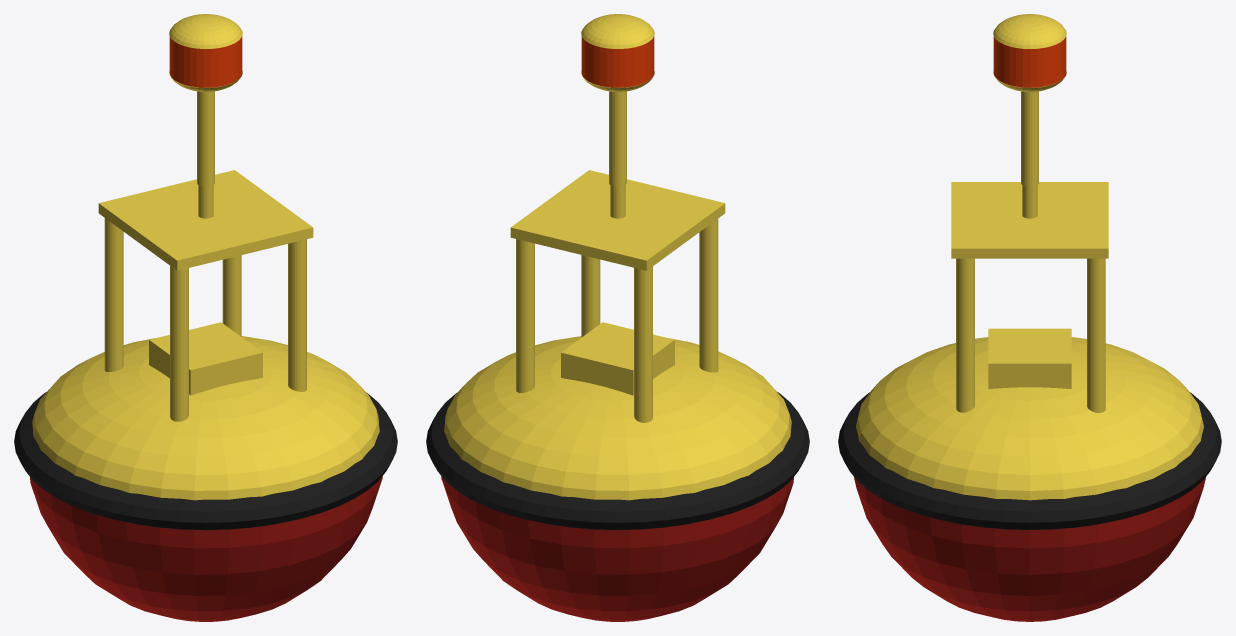
The model's file is Boei.fbx.
3 views of the same model, side by side, from view 1: azimuth 30°, elevation 25°; view 2: azimuth 150°, elevation 25°; view 3: azimuth 270°, elevation 25° (orthographic).
Parts seen in each view (by area): view 1: Sphere.001, Sphere, Torus, Cube, Cube.001, Cylinder.003, Cylinder.006, Cylinder, Cylinder.001, Sphere.003, Cylinder.005, Cylinder.002; view 2: Sphere.001, Sphere, Torus, Cube, Cube.001, Cylinder, Cylinder.003, Cylinder.006, Cylinder.002, Sphere.003, Cylinder.005, Cylinder.001; view 3: Sphere.001, Sphere, Torus, Cube, Cube.001, Cylinder.002, Cylinder.001, Cylinder.006, Sphere.003, Cylinder.005.
Boxes of the visible parts, x1,y1,x2,y2 form: Sphere.001: (32, 336, 379, 500); Sphere: (30, 476, 382, 621); Torus: (14, 392, 397, 530); Cube: (98, 170, 313, 270); Cube.001: (149, 322, 262, 395); Cylinder.003: (104, 218, 123, 371); Cylinder.006: (169, 36, 242, 87); Cylinder: (170, 266, 188, 421); Cylinder.001: (288, 239, 306, 391); Sphere.003: (169, 14, 242, 48); Cylinder.005: (197, 87, 214, 186); Cylinder.002: (222, 255, 241, 336); Sphere.001: (444, 336, 791, 500); Sphere: (441, 476, 793, 621); Torus: (426, 392, 809, 530); Cube: (510, 170, 725, 270); Cube.001: (561, 322, 674, 395); Cylinder: (699, 219, 718, 372); Cylinder.003: (634, 266, 652, 422); Cylinder.006: (581, 36, 654, 87); Cylinder.002: (516, 239, 534, 392); Sphere.003: (581, 14, 654, 48); Cylinder.005: (609, 87, 626, 186); Cylinder.001: (581, 255, 600, 337); Sphere.001: (856, 337, 1203, 500); Sphere: (853, 476, 1206, 621); Torus: (838, 392, 1221, 529); Cube: (951, 182, 1108, 258); Cube.001: (988, 328, 1071, 388); Cylinder.002: (1087, 258, 1105, 412); Cylinder.001: (956, 258, 974, 412); Cylinder.006: (993, 36, 1066, 87); Sphere.003: (993, 14, 1066, 48); Cylinder.005: (1021, 87, 1038, 186).
Size of the model in its own units: 375 by 631 by 375.
